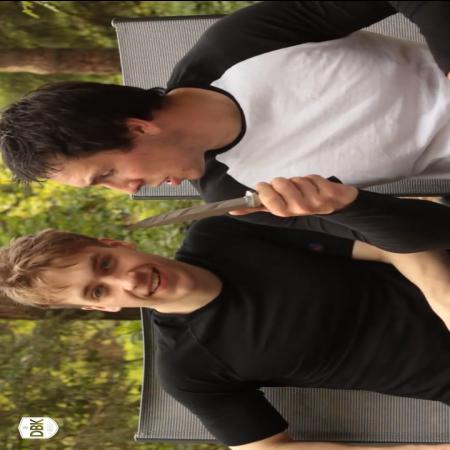long weapon: (106, 169, 351, 235)
